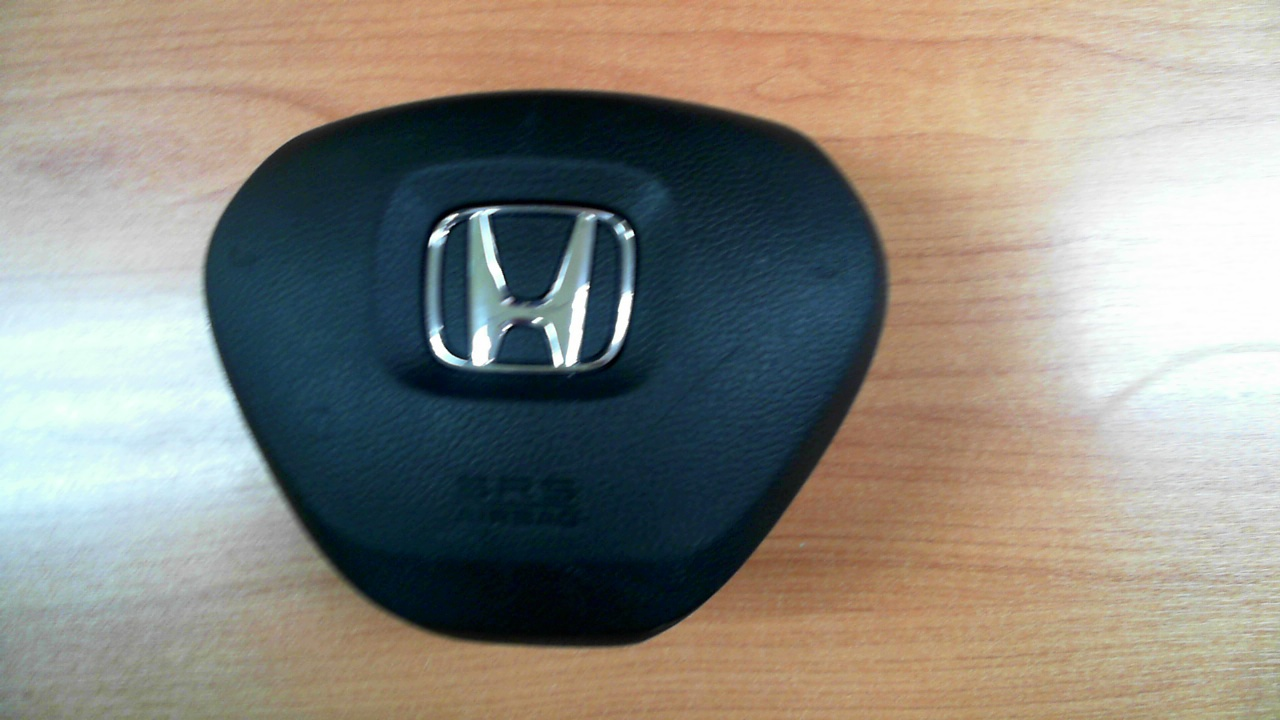Airbag: (203, 89, 889, 648)
Honda: (425, 205, 636, 374)
